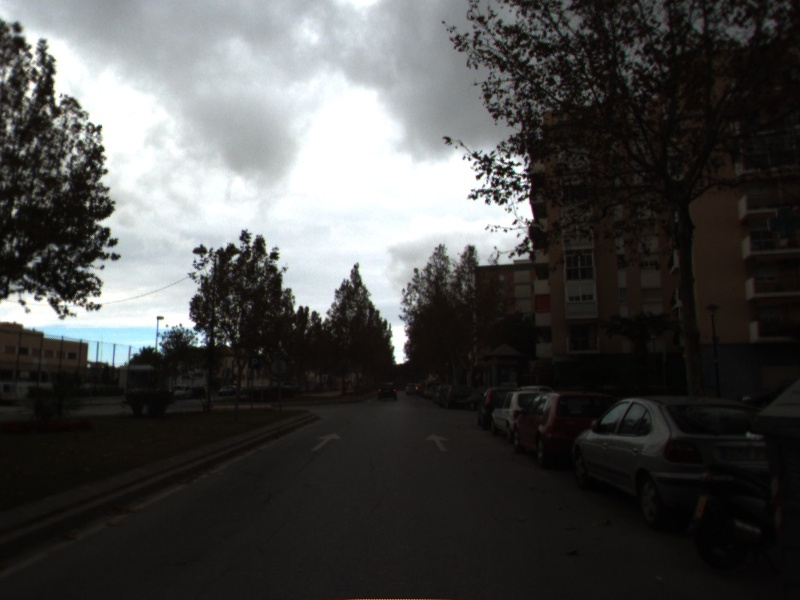STRAIGHT: (307, 430, 344, 454), (422, 430, 451, 454)
